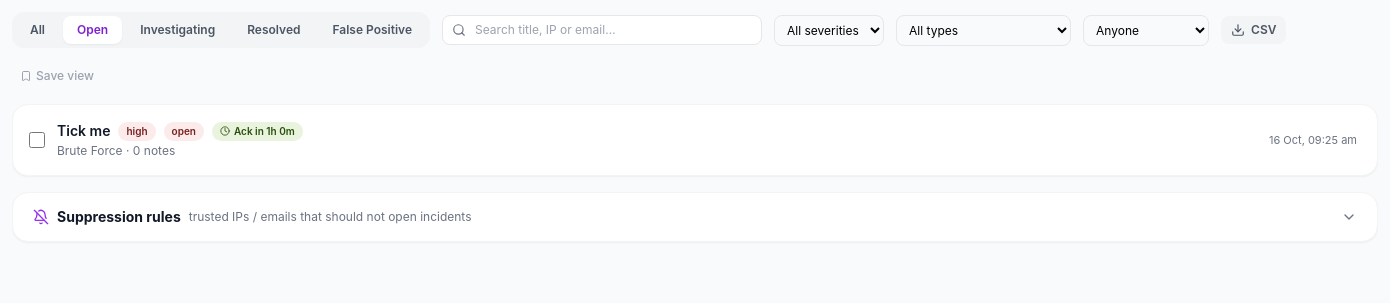
Test: IncidentsTab › drops a ticked incident that is no longer on screen, so a bulk action cannot reach it
The width and height of the screenshot is (1390, 303).
Click the checkbox named "Select Tick me" at (37, 140), box [29, 132, 45, 148]
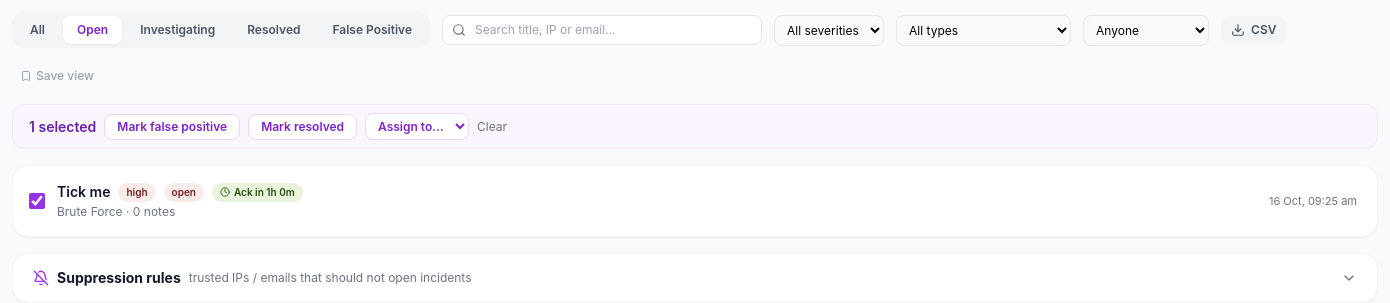
Check: the text "1 selected" is shown, box [29, 116, 96, 136]
Click the button "resolved" at (274, 30), box [233, 16, 314, 44]
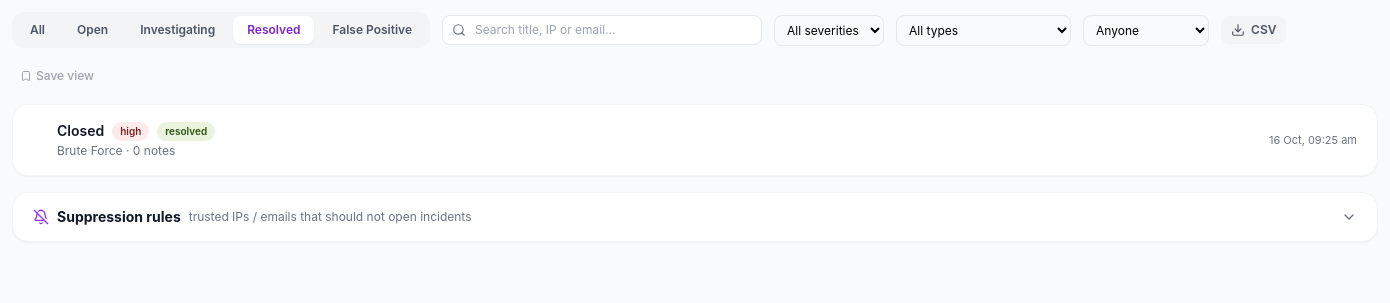
Check: the text "Closed" is shown, box [57, 121, 104, 141]
Check: the text "selected" is gone
Check: the button "Mark resolved" is gone
